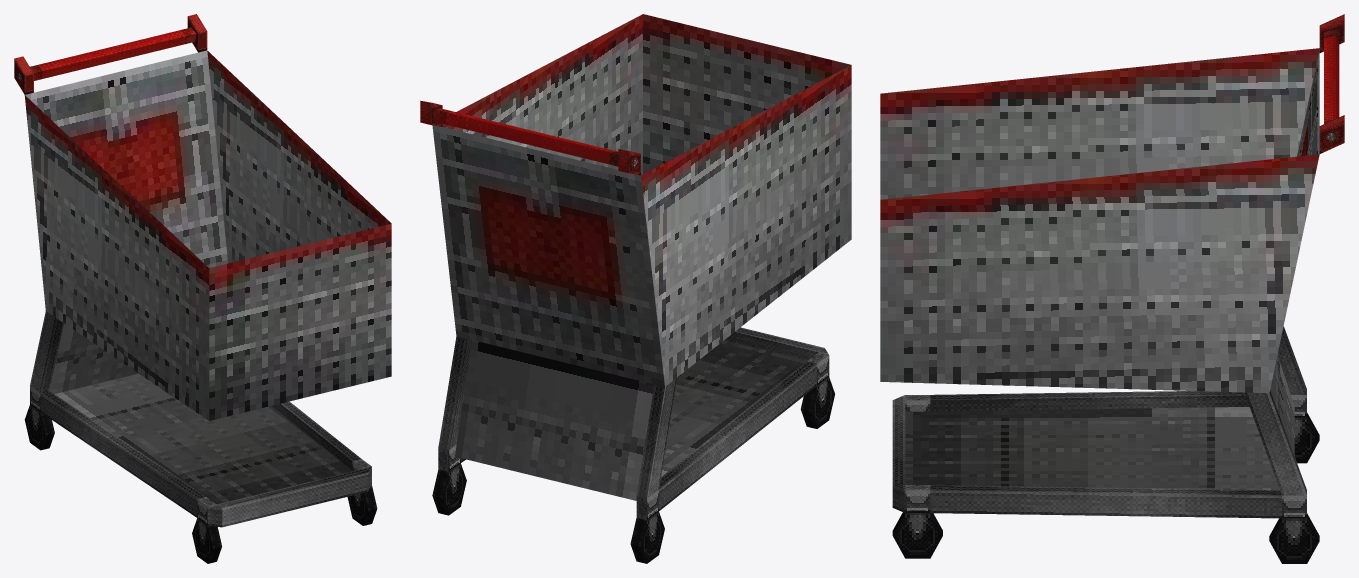
The model's file is psx_low_poly_shopping_cart.glb.
The picture shows the model from 3 angles, left to right: view 1: azimuth 30°, elevation 25°; view 2: azimuth 150°, elevation 25°; view 3: azimuth 270°, elevation 25°; orthographic projection. The views are drawn at different scales.
Parts seen in each view (by area): view 1: Cube; view 2: Cube; view 3: Cube.
Boxes of the visible parts, box(x1,y1,x2,y2) form: Cube: box(14, 14, 391, 563); Cube: box(420, 14, 851, 563); Cube: box(880, 14, 1344, 563).
Size of the model in its own units: 2 by 3.9 by 3.7.
1 material, 1 textured.
